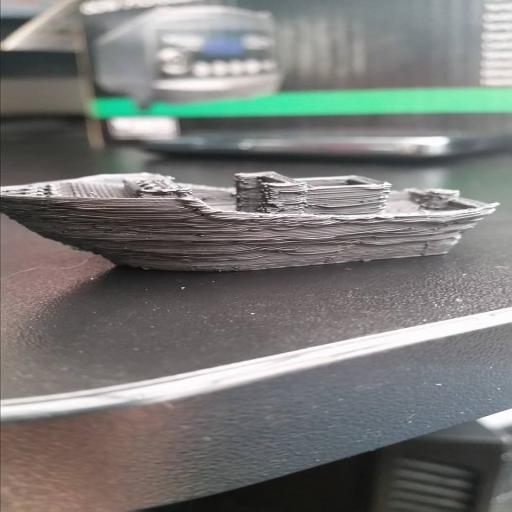blobs: (29, 203, 467, 263)
